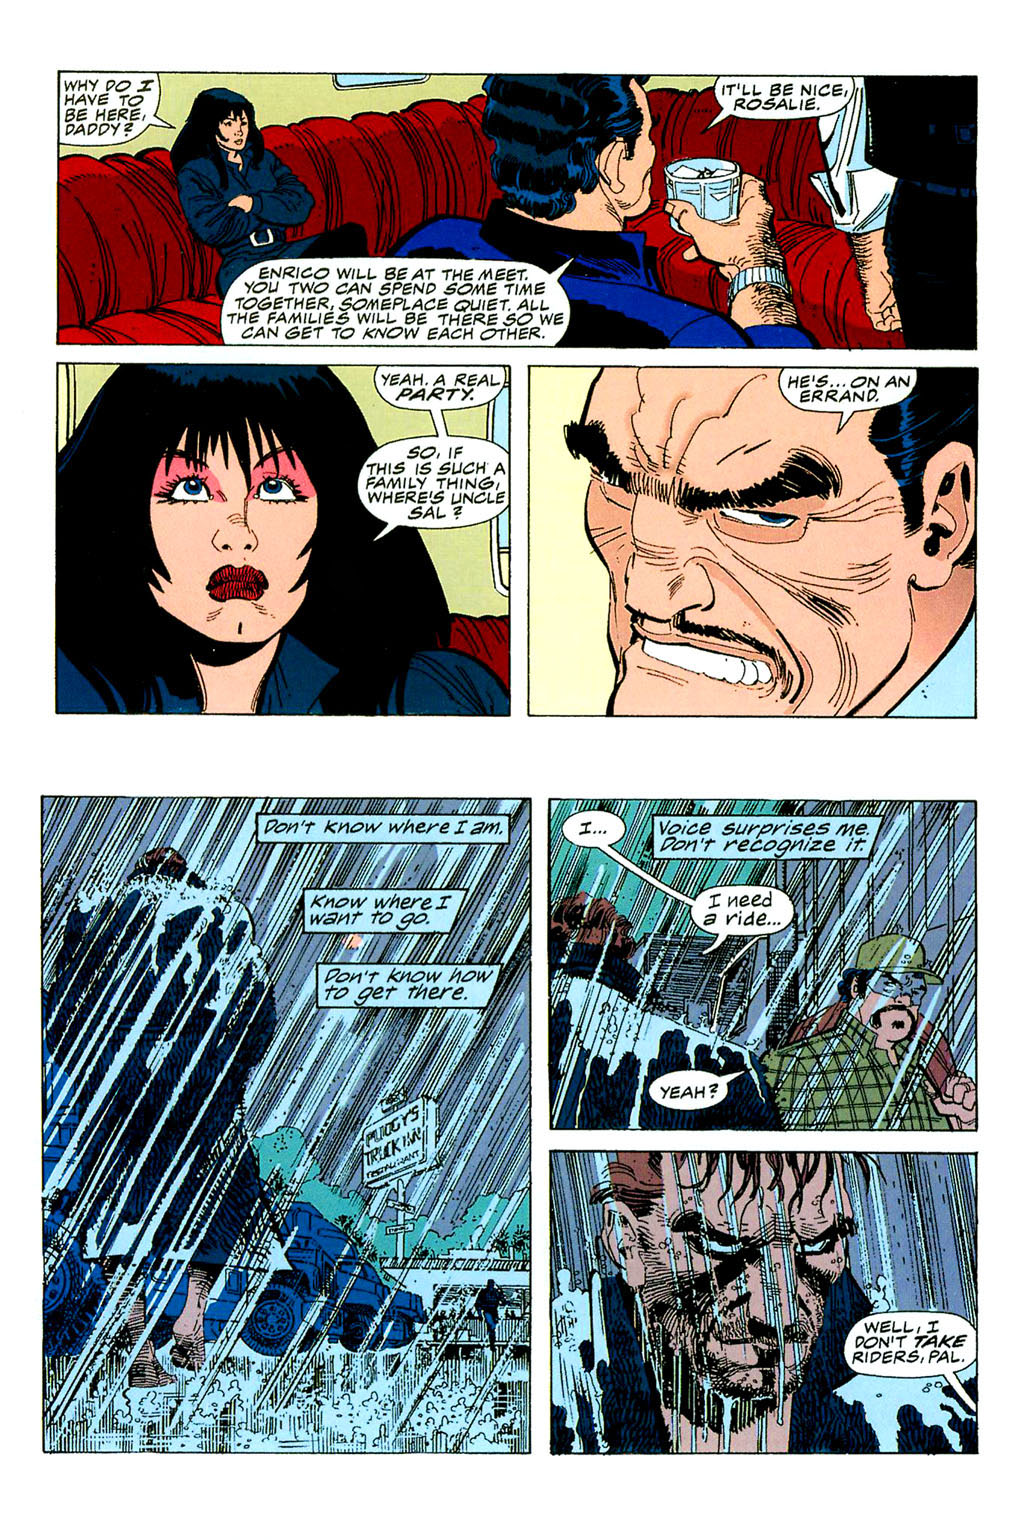Baloon: (215, 244, 575, 352), (351, 436, 515, 542), (842, 1307, 977, 1417), (656, 810, 889, 867), (677, 879, 794, 964), (56, 55, 170, 143), (363, 360, 507, 430), (703, 69, 858, 133), (256, 810, 518, 848), (301, 879, 470, 936), (313, 960, 503, 1010), (775, 367, 923, 431), (642, 1060, 753, 1114), (555, 800, 634, 867)
Vignetta: (34, 793, 539, 1457), (56, 69, 977, 350), (51, 364, 511, 719), (525, 362, 975, 721), (549, 799, 977, 1133), (551, 1150, 975, 1452)
